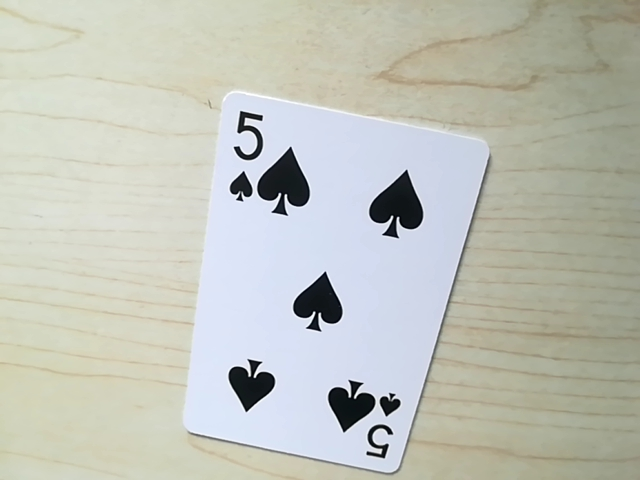ht 5: (217, 102, 261, 216), (364, 391, 404, 470)
